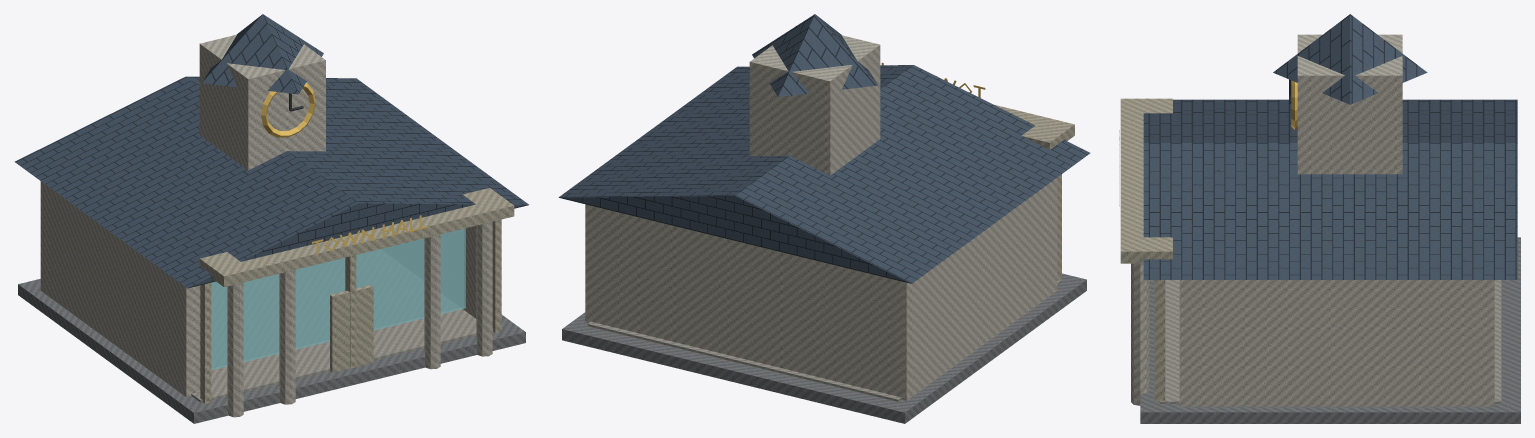
Rendered from town_hall.glb.
3 views of the same model, side by side, from view 1: azimuth 30°, elevation 25°; view 2: azimuth 150°, elevation 25°; view 3: azimuth 270°, elevation 25° (orthographic). The views are drawn at different scales.
Parts seen in each view (by area): view 1: gable_roof, side_wall, window_back, clock_tower, foundation, portico, floor, tower_cap, door, column.003, column.001, column (+8 smaller); view 2: gable_roof, rear_wall, side_wall, clock_tower, foundation, tower_cap, floor, portico, front_post; view 3: gable_roof, side_wall.001, clock_tower, foundation, tower_cap, portico, floor, rear_wall, column.003, front_post.002.
Part boxes in pixels (box(x1,y1,x2,y2)): gable_roof: box(14, 76, 528, 288); side_wall: box(46, 188, 200, 397); window_back: box(211, 228, 465, 370); clock_tower: box(199, 34, 325, 170); foundation: box(18, 279, 525, 423); portico: box(199, 188, 514, 286); floor: box(191, 309, 492, 402); tower_cap: box(202, 14, 323, 94); door: box(330, 285, 373, 372); column.003: box(476, 221, 492, 356); column.001: box(279, 270, 295, 404); column: box(227, 282, 243, 417); gable_roof: box(558, 65, 1090, 283); rear_wall: box(585, 204, 916, 400); side_wall: box(913, 178, 1057, 395); clock_tower: box(749, 35, 880, 175); foundation: box(562, 273, 1086, 423); tower_cap: box(752, 14, 877, 96); floor: box(587, 280, 1061, 401); portico: box(994, 104, 1074, 149); front_post: box(1057, 174, 1061, 280); gable_roof: box(1143, 99, 1517, 279); side_wall.001: box(1179, 280, 1481, 406); clock_tower: box(1297, 34, 1402, 174); foundation: box(1140, 237, 1520, 423); tower_cap: box(1273, 14, 1427, 104); portico: box(1120, 98, 1172, 263); floor: box(1160, 280, 1501, 403); rear_wall: box(1475, 280, 1494, 406); column.003: box(1131, 263, 1149, 405); front_post.002: box(1154, 280, 1165, 402).
Bounding box in the file's own units: 6.6 × 5.5 × 6.21.
8 materials, 6 textured.
